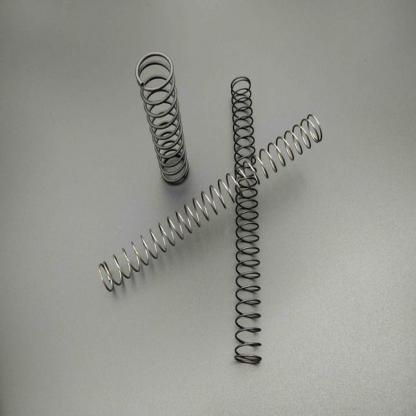FOD: (94, 108, 325, 292), (226, 73, 267, 367), (133, 48, 192, 183)
